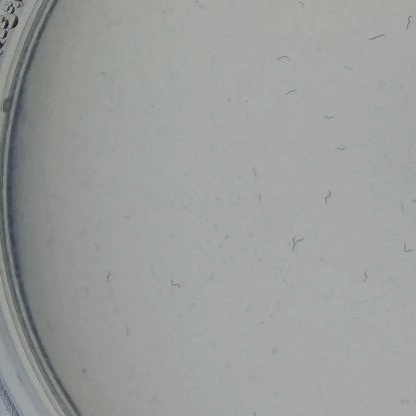worm: (365, 22, 386, 53), (245, 160, 266, 189), (273, 50, 292, 74), (398, 13, 415, 38), (319, 185, 339, 206), (289, 231, 309, 252), (395, 388, 416, 408), (205, 191, 225, 212), (163, 273, 190, 288), (277, 276, 292, 299), (249, 192, 265, 213), (102, 266, 117, 288), (279, 85, 297, 103), (399, 240, 416, 257), (330, 140, 352, 153), (120, 322, 134, 340), (395, 199, 408, 218), (358, 267, 370, 287), (340, 62, 356, 77), (293, 0, 309, 14), (319, 110, 340, 120)
